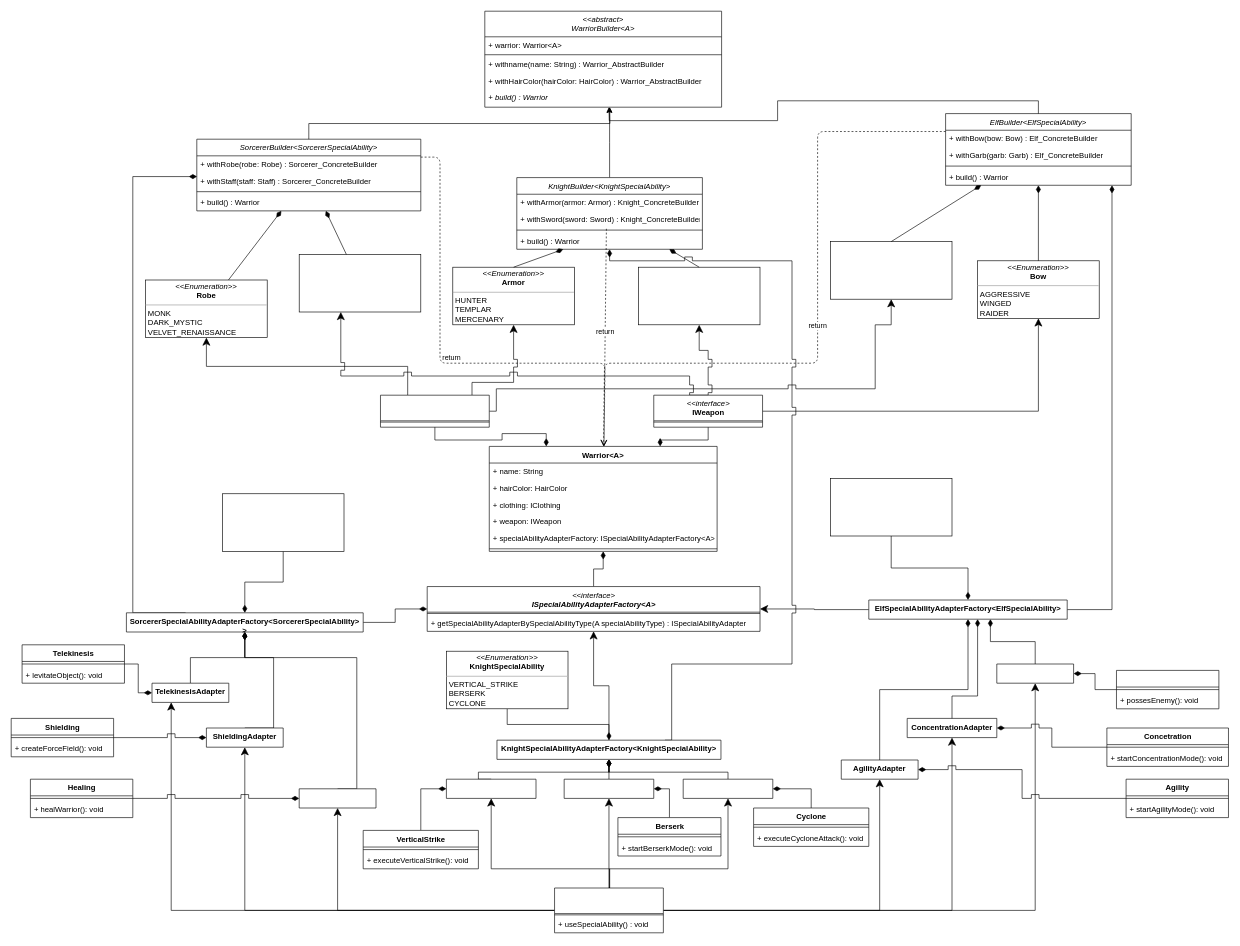
Image size: 1240x946. Some labels were removed from this diagram. Here are the shapes that lost their labels. From the top down, the box of each, then its label:
(299, 254, 421, 312): <<Enumeration>> Staff INCINEIRATION MAGNUS CORRUPTION
(830, 241, 952, 299): <<Enumeration>> Garb EXECUTIONER HUNTER FOREIGN
(638, 267, 760, 325): <<Enumeration>> Sword MYSTIC_BLADE MERCENARY_BLADE EMPEROR_BLADE
(380, 395, 489, 427): <<interface> IClothing
(222, 493, 344, 551): <<Enumeration>> SorcererSpecialAbility TELEKINESIS SHIELDING HEALING
(830, 478, 952, 536): <<Enumeration>> ElfSpecialAbility POSSESION CONCENTRATION AGILITY
(996, 663, 1074, 683): PossessionAdapter
(1116, 670, 1219, 709): Possession
(299, 788, 376, 808): HealingAdapter
(446, 779, 536, 798): VerticalStrikeAdapter
(564, 779, 654, 798): BerserkAdapter
(683, 779, 773, 798): CycloneAdapter
(554, 887, 663, 933): <<interface> ISpecialAbilityAdapter
